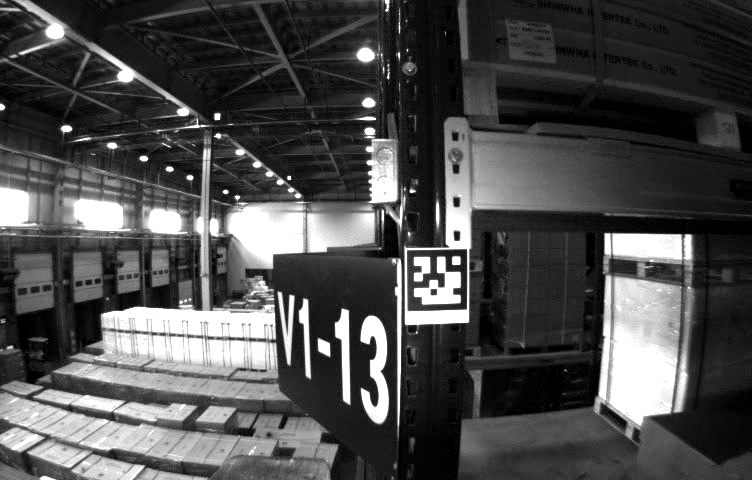True Barcode: (509, 18, 558, 63)
